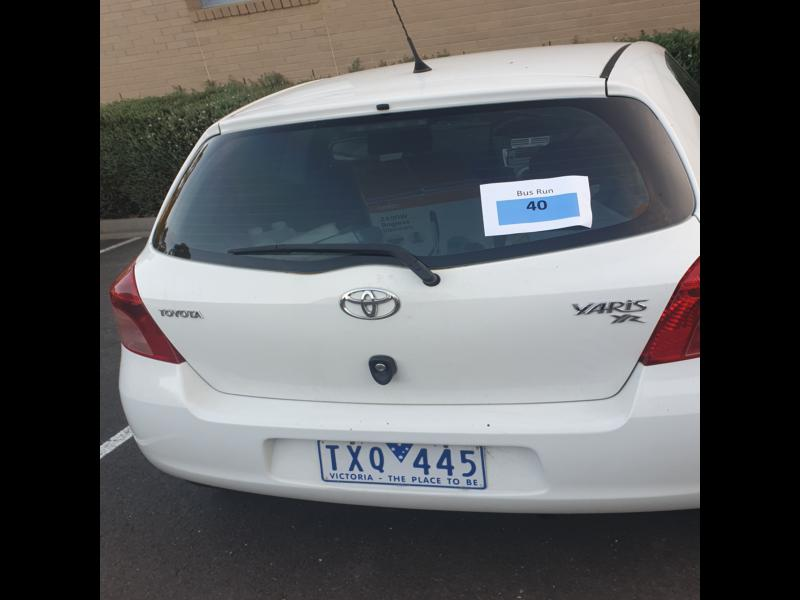BusRun: (496, 193, 581, 225)
PlateNo: (316, 437, 485, 491)
